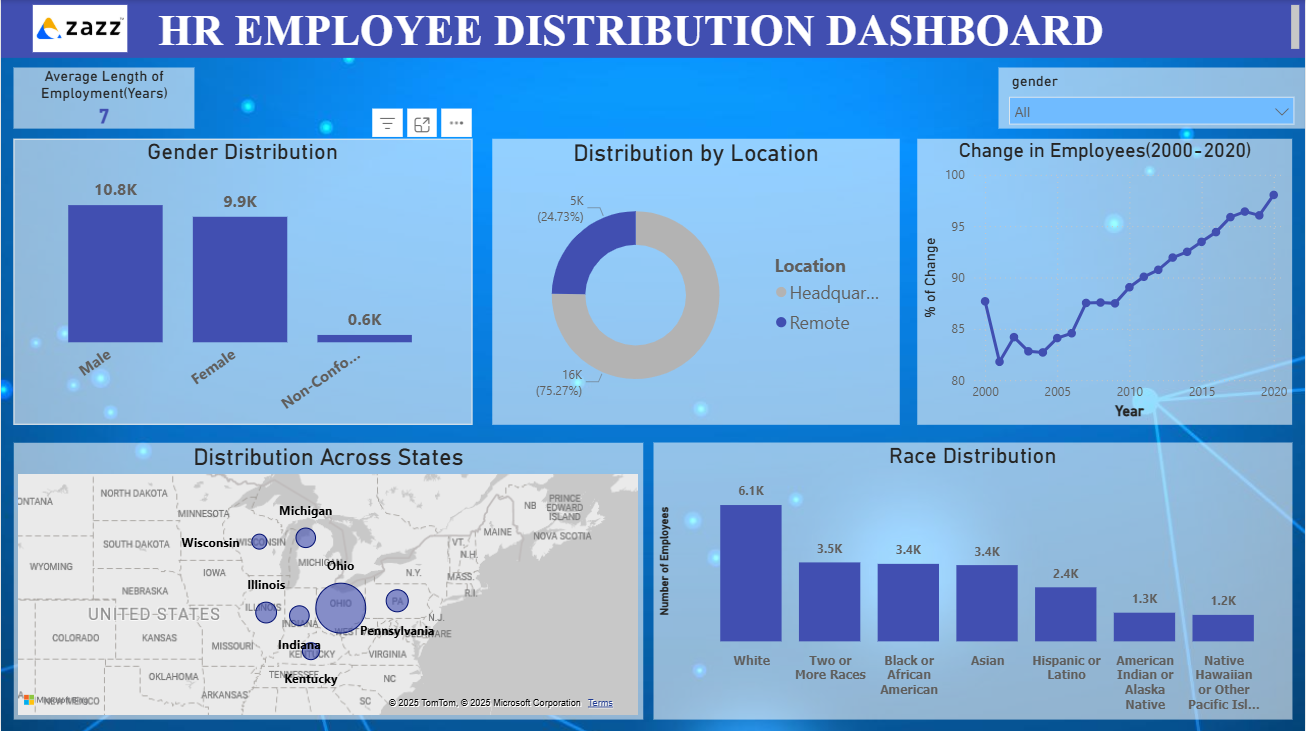

This screenshot's page, from the dashboard's own definition file:
{"tool":"powerbi","page":{"name":"Page 1","canvas":[1280,720],"ordinal":0},"visuals":[{"type":"clusteredColumnChart","title":"Gender Distribution","fields":{"Category":["gender.gender"],"Y":["Sum(gender.count)"]},"box":[12.3,136.2,450.3,281],"z":0},{"type":"donutChart","title":"Distribution by Location","fields":{"Y":["Sum(location.count)"],"Category":["location.location"]},"box":[482.2,136.2,400,281],"z":1000},{"type":"columnChart","title":"Race Distribution","fields":{"Category":["race.race"],"Y":["Sum(race.count)"]},"box":[640.5,434.4,627,272.4],"z":2000},{"type":"map","title":"Distribution Across States","fields":{"Category":["state.location_state"],"Size":["Sum(state.count)"]},"box":[12.3,434.4,618.4,272.4],"z":3000},{"type":"textbox","box":[0,0,1279.8,56.4],"z":4000},{"type":"lineChart","title":"Change in Employees(2000-2020)","fields":{"Category":["employee_change.year"],"Y":["Sum(employee_change.net_change_percent)"]},"box":[899.4,136.2,368.1,281],"z":5000},{"type":"card","title":"Average Length of Employment(Years)","fields":{"Values":["Sum(avg_length_employment.avg_length_of_employment)"]},"box":[12.3,66.3,177.9,60.1],"z":6000},{"type":"image","box":[0,0,155.8,56.4],"z":7000},{"type":"slicer","fields":{"Values":["gender.gender"]},"box":[979.1,66.3,300.6,60.1],"z":8000}]}

Visuals, with their boxes in screenshot pixels (x1, y1, x2, y2), scaled from the page's 1280x720 canvas onto the 1306x731 screenshot:
"Gender Distribution" clusteredColumnChart: (left=13, top=138, right=472, bottom=424)
"Distribution by Location" donutChart: (left=492, top=138, right=900, bottom=424)
"Race Distribution" columnChart: (left=654, top=441, right=1293, bottom=718)
"Distribution Across States" map: (left=13, top=441, right=644, bottom=718)
textbox: (left=0, top=0, right=1305, bottom=57)
"Change in Employees(2000-2020)" lineChart: (left=918, top=138, right=1293, bottom=424)
"Average Length of Employment(Years)" card: (left=13, top=67, right=194, bottom=128)
image: (left=0, top=0, right=159, bottom=57)
slicer - gender.gender: (left=999, top=67, right=1305, bottom=128)
